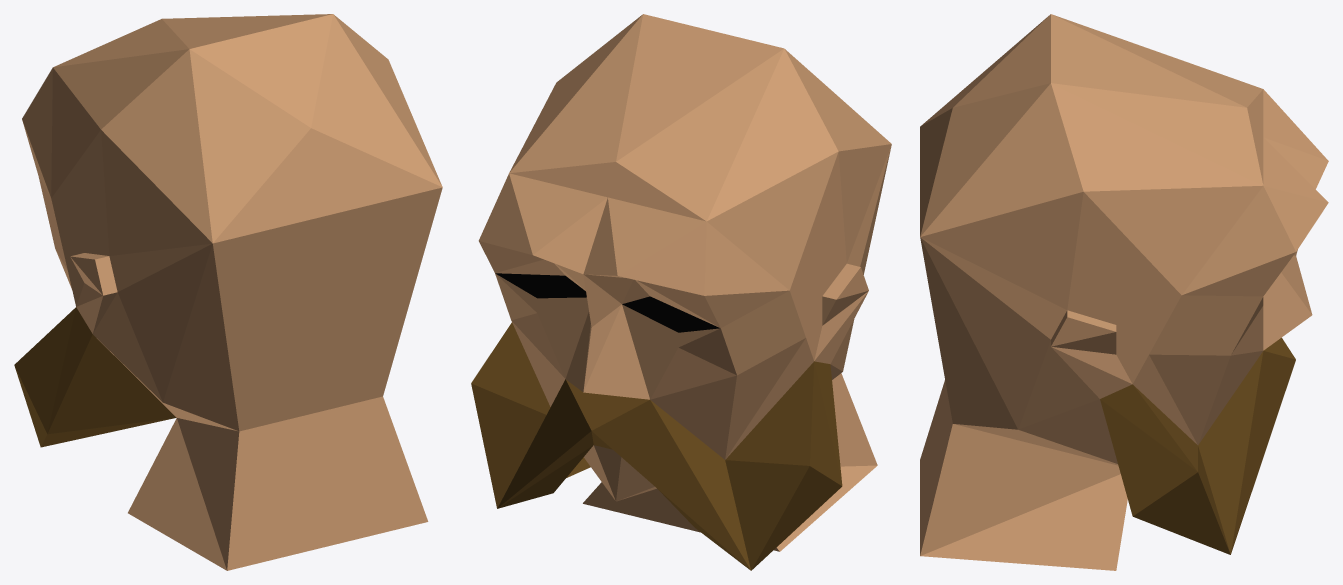
File: npc_world_thurgo_0.obj
3 renders of one model, left to right at view 1: azimuth 30°, elevation 25°; view 2: azimuth 150°, elevation 25°; view 3: azimuth 270°, elevation 25°, orthographic.
Bounding box in the file's own units: 0.1875 × 0.25 × 0.1953.
